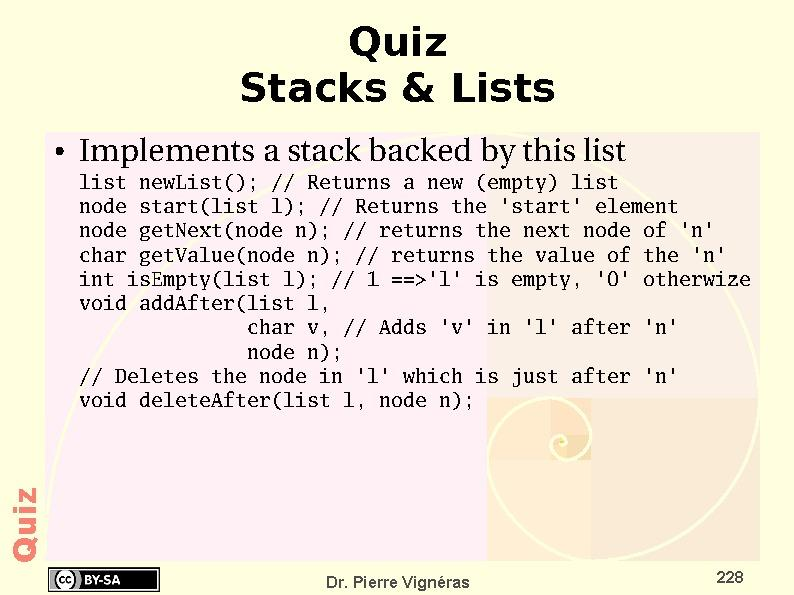paragraph: (38, 117, 776, 449)
title: (229, 16, 580, 115)
